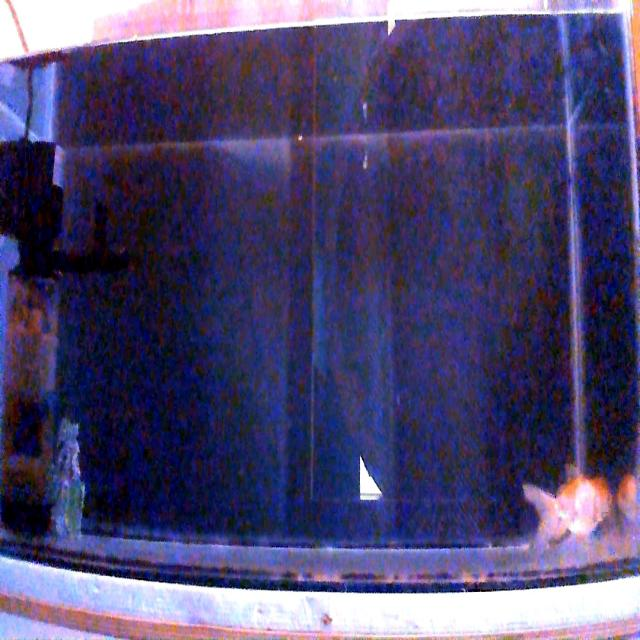fish: (524, 472, 614, 546), (615, 472, 639, 528)
